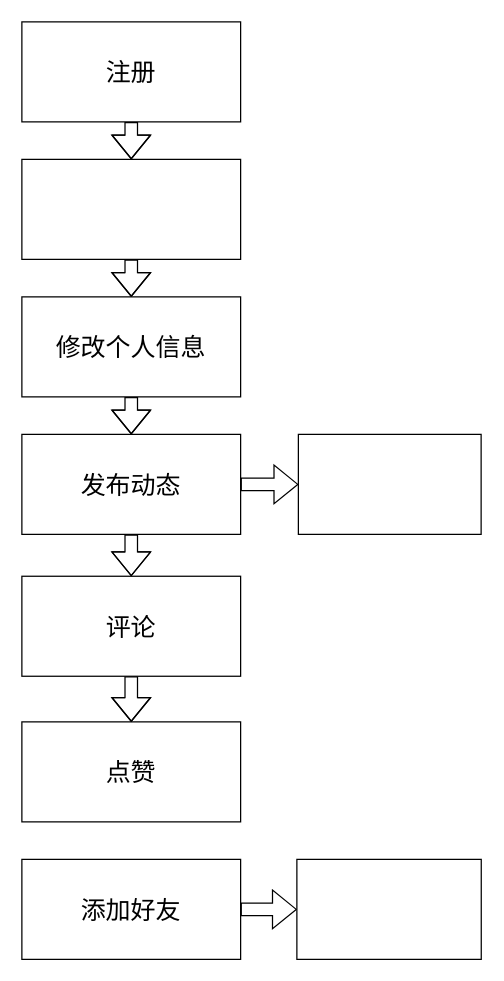
Some shapes in this 504 by 981 pixel diagram are drawn without their labels. Each missing label, with the centre of its shape:
"删除动态" belongs at (389,483).
"删除好友" belongs at (388,908).
"登录" belongs at (131,208).
